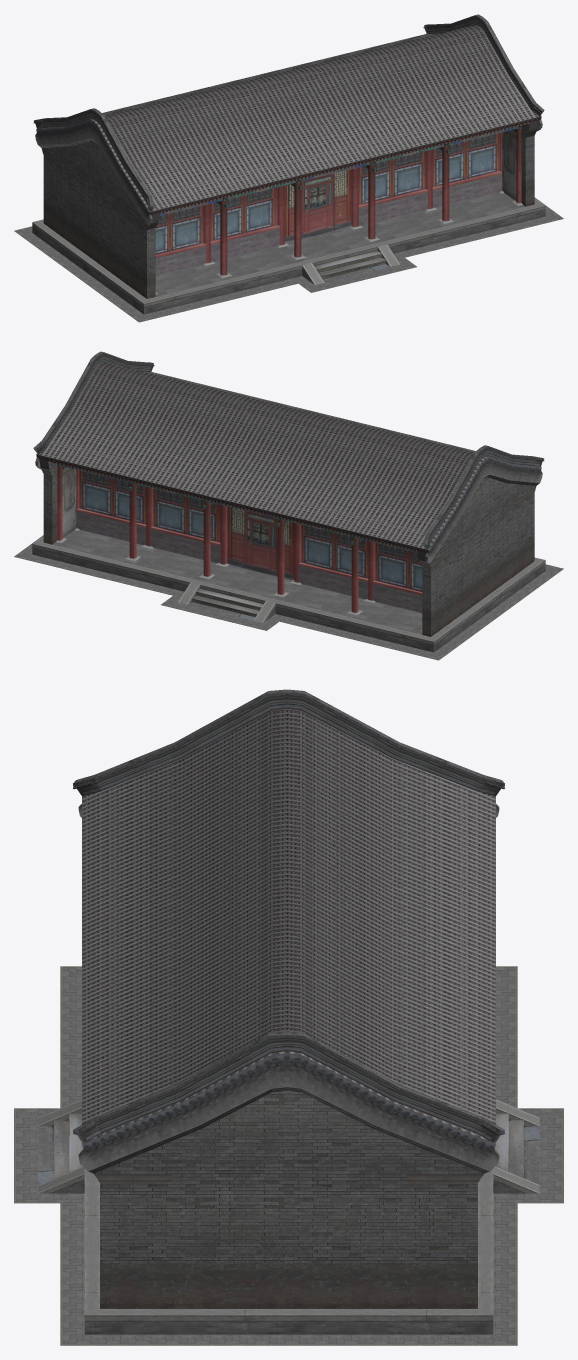
Rendered from YHY_JZ_DGM_05_LST_YSZND.obj.
3 views of the same model, one above another, from view 1: azimuth 30°, elevation 25°; view 2: azimuth 150°, elevation 25°; view 3: azimuth 270°, elevation 25° (orthographic). The views are drawn at different scales.
Parts seen in each view (by area): view 1: polySurface653; view 2: polySurface653; view 3: polySurface653.
Boxes of the visible parts, x1=… form: polySurface653: x1=14, y1=14, x2=563, y2=322; polySurface653: x1=14, y1=351, x2=563, y2=660; polySurface653: x1=14, y1=689, x2=563, y2=1345.
Size of the model in its own units: 18.35 by 6.64 by 11.26.
14 materials, 14 textured.
